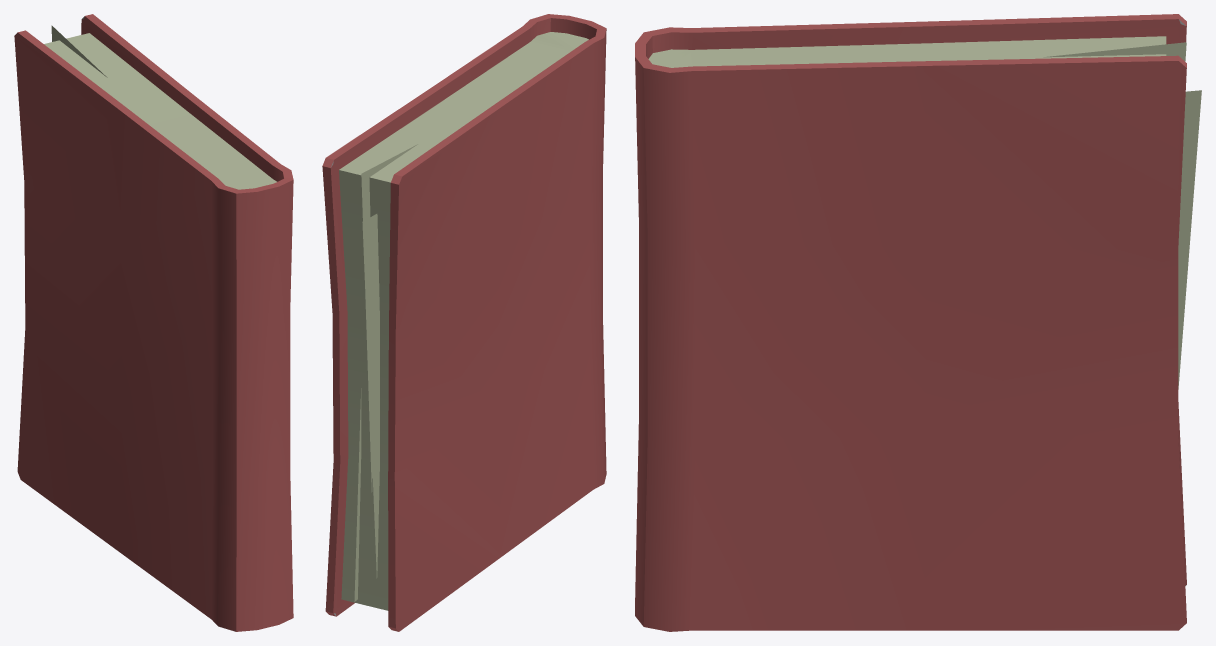
Rendered from red book.fbx.
3 renders of one model, left to right at view 1: azimuth 30°, elevation 25°; view 2: azimuth 150°, elevation 25°; view 3: azimuth 270°, elevation 25°, orthographic. The views are drawn at different scales.
Parts seen in each view (by area): view 1: Box004; view 2: Box004; view 3: Box004.
Part boxes in pixels (left/top/right/bottom): Box004: left=14, top=14, right=293, bottom=631; Box004: left=322, top=14, right=606, bottom=631; Box004: left=635, top=14, right=1201, bottom=631.
Bounding box in the file's own units: 3.59 × 20.44 × 18.37.
